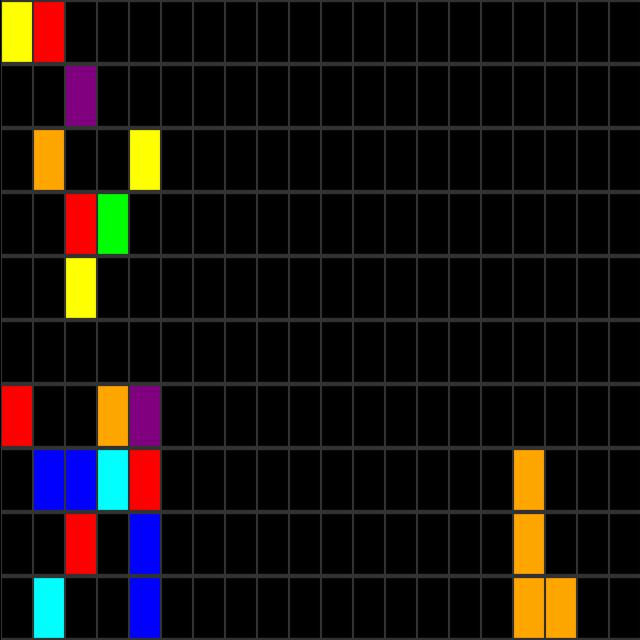Tetrimino_I: (512, 445, 579, 640)
